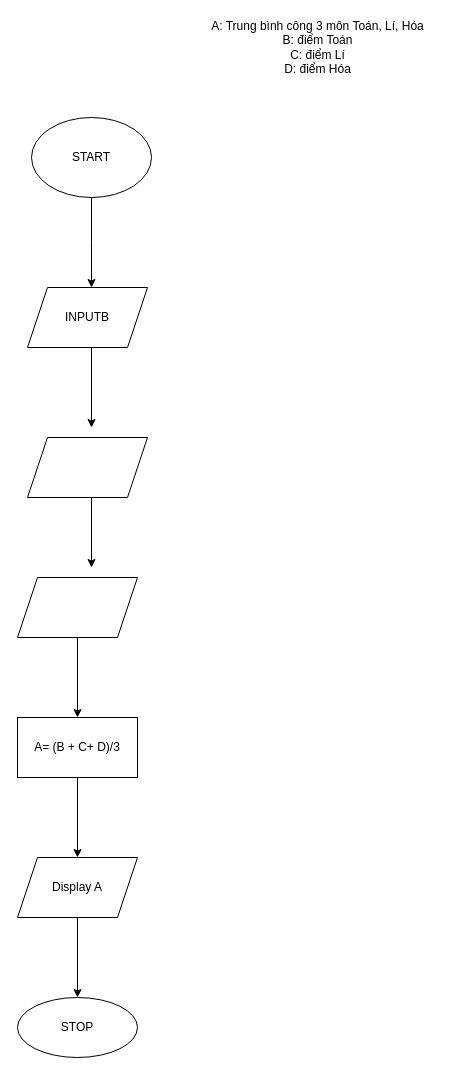
This 450x1075 diagram has some shape labels left out. Here are the shapes that lost their labels. From the top down, the centre of each, then its label:
At (x=87, y=467): "INPUTC".
At (x=77, y=607): "INPUT D".
